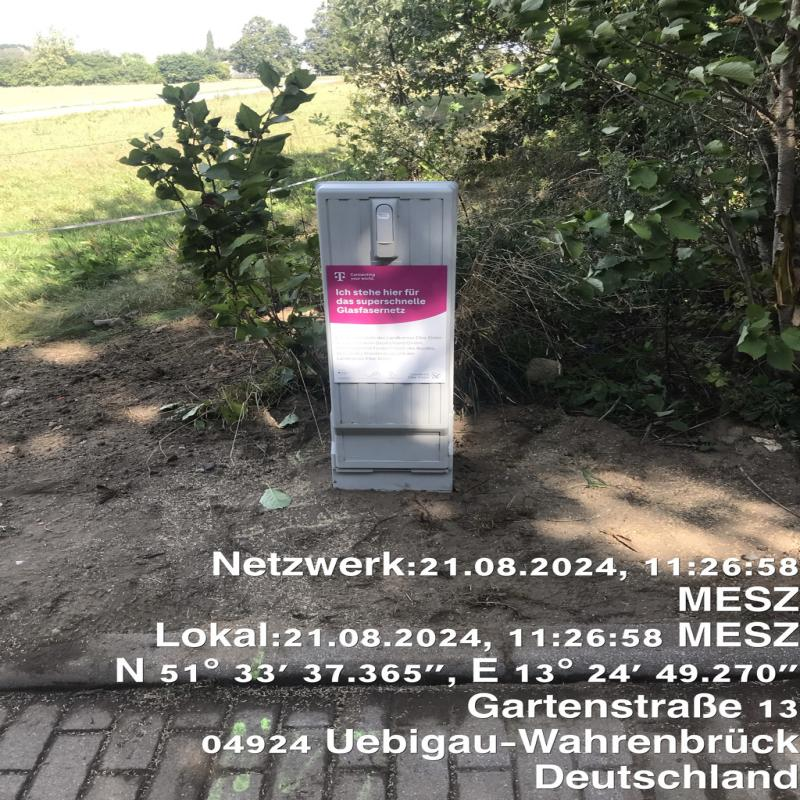NT-Gehause: (317, 181, 460, 494)
Steaker: (326, 265, 449, 385)
